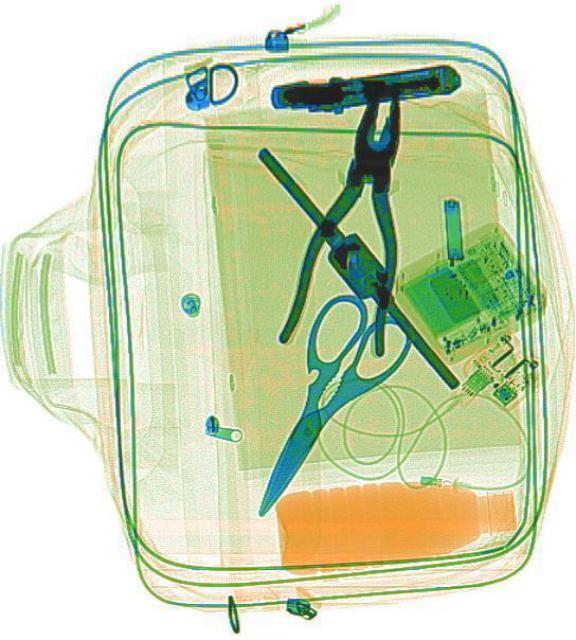Gun: (266, 61, 462, 119)
Pliers: (274, 74, 438, 363)
Scissors: (215, 282, 417, 538)
